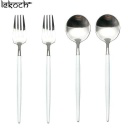fork: (36, 9, 58, 126)
